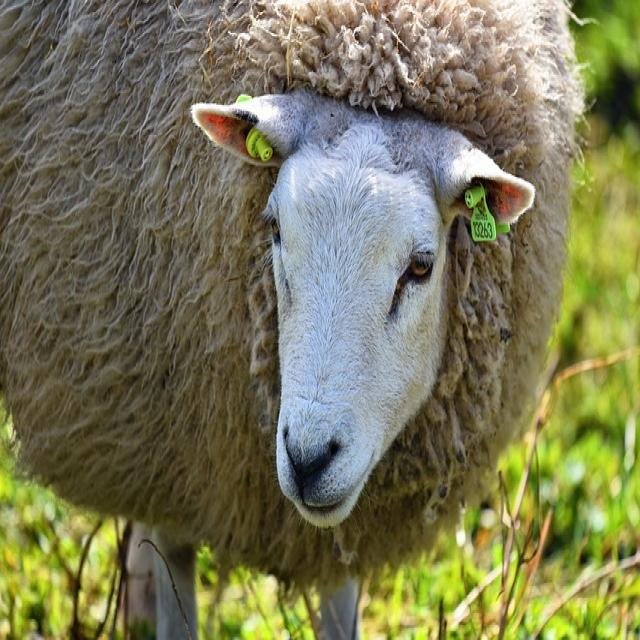sheep: (0, 0, 590, 639)
